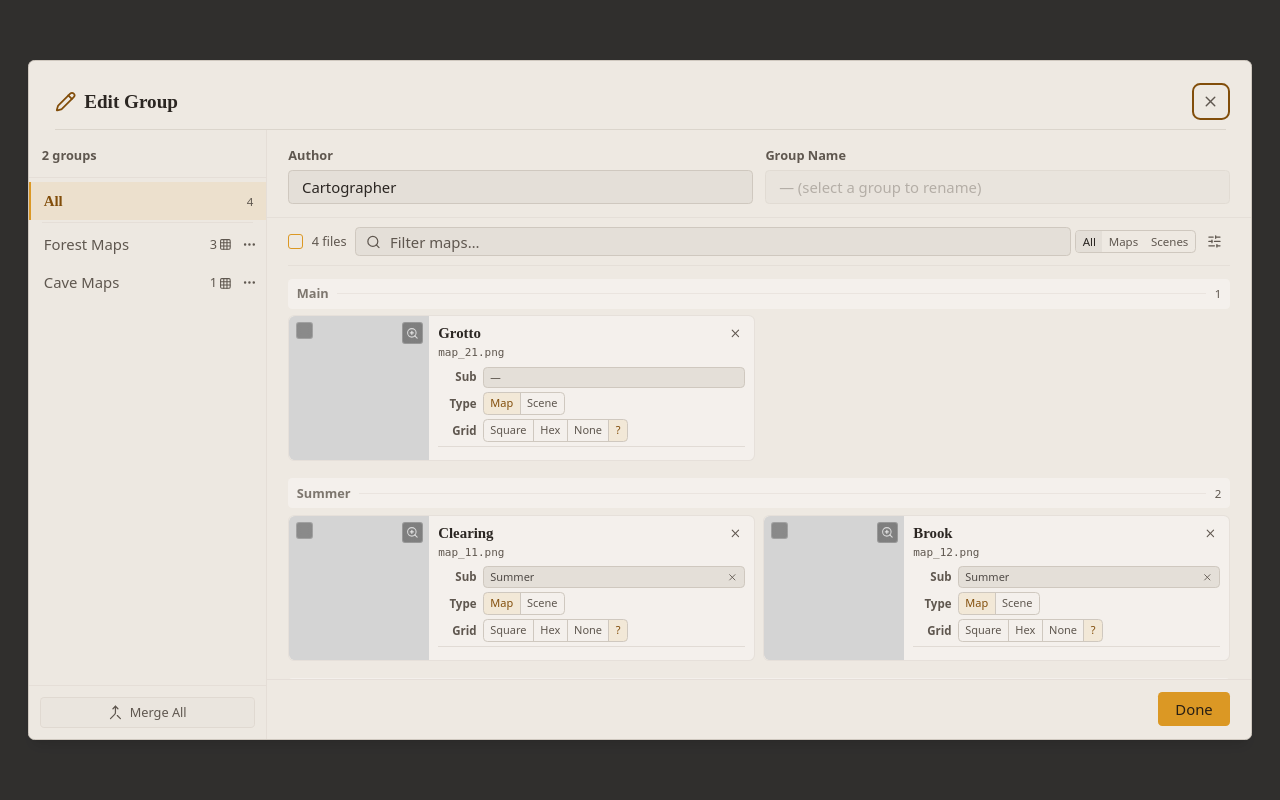
Test case: EditGroupDialog › several groups › merges all groups into the first after confirmation
Expected: the text "2 groups" is shown, [42,146,97,164]
Click the button "Merge All": (148,712) [40,697,255,728]
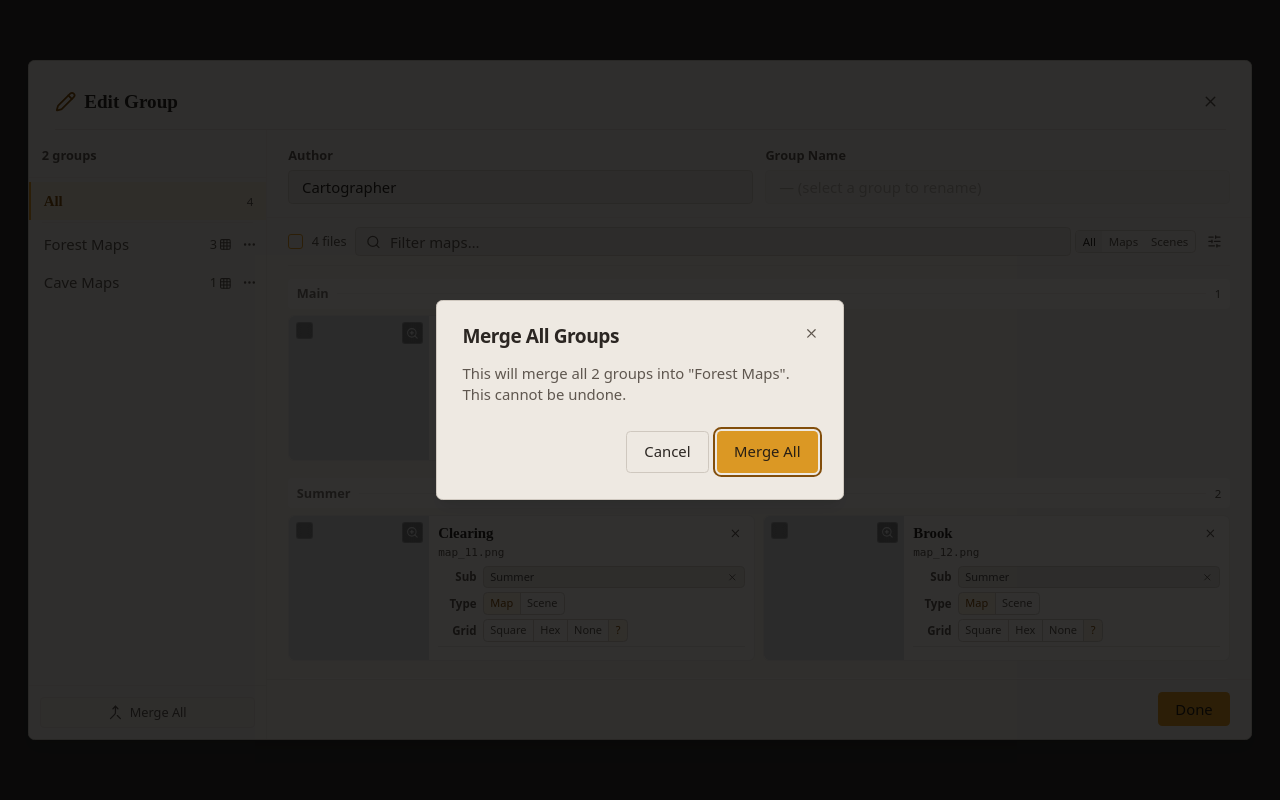
Now the text "Merge All Groups" shows "merge all 2 groups into \"Forest Maps\"", box [462,363,790,404]
Click the button "Merge All": (767,452) [717,431,818,473]
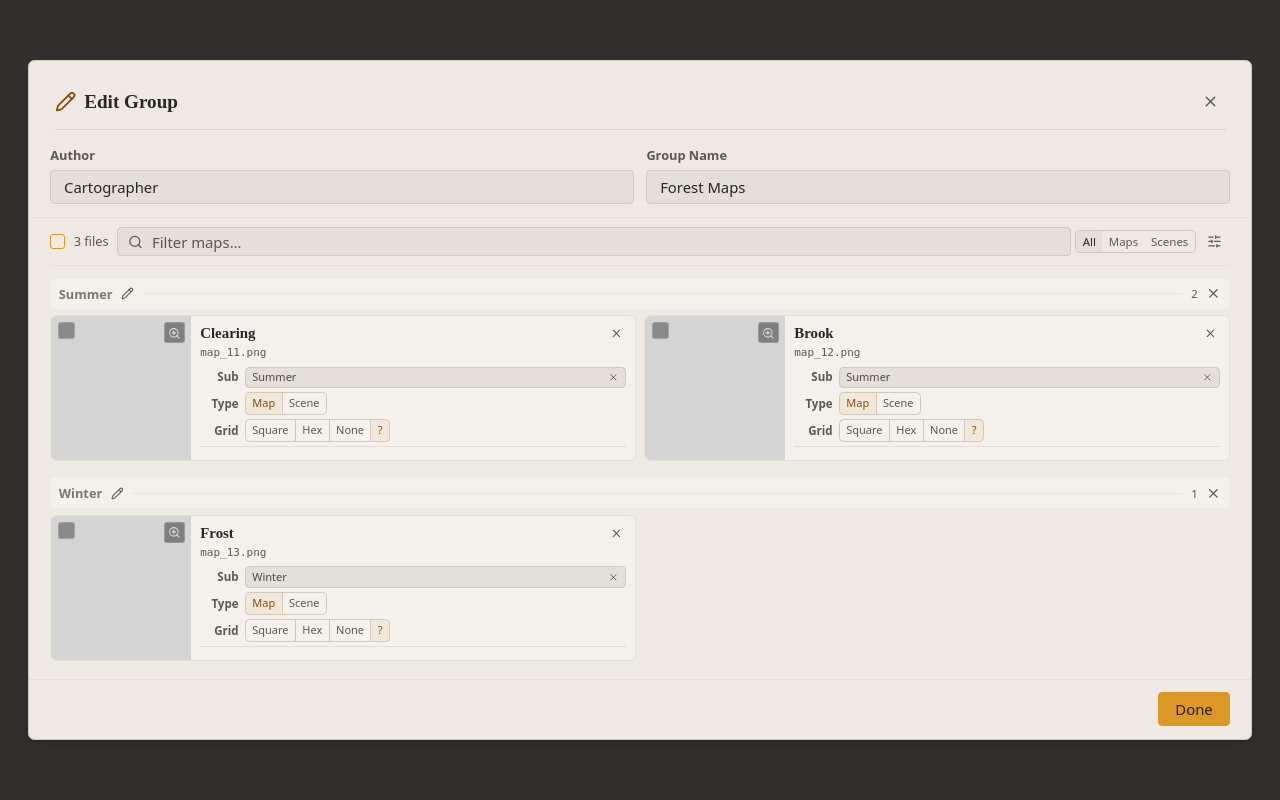
Now the heading "Merge All Groups" is gone
